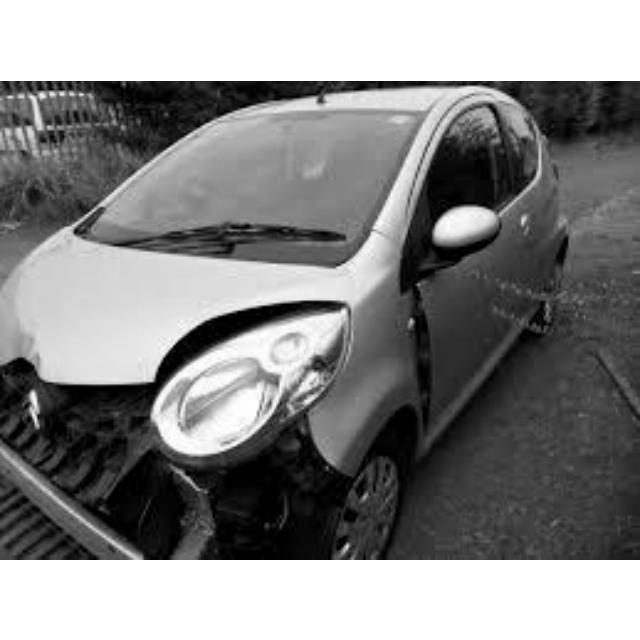front-bumper-dent: (0, 382, 202, 530)
